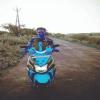motorcycles: (28, 40, 58, 91)
